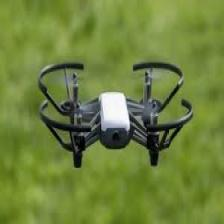drone: (40, 60, 194, 165)
